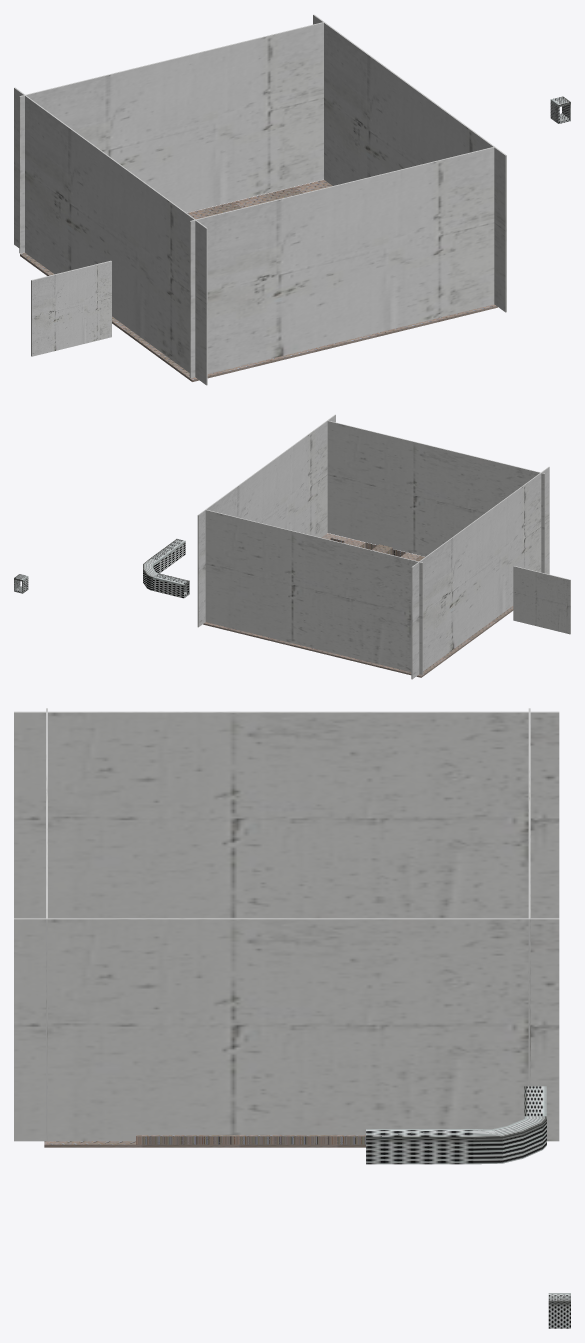
The model's file is Map_CommandCenter.glb.
3 views of the same model, one above another, from view 1: azimuth 30°, elevation 25°; view 2: azimuth 150°, elevation 25°; view 3: azimuth 270°, elevation 25° (orthographic). The views are drawn at different scales.
Parts seen in each view (by area): view 1: Wall-col-col.002-col, Wall-col-col.001-col, Wall-col-col.004-col, Wall-col-col.003-col, Wall-col-col-col, Cube-col, Gratey-col-col; view 2: Wall-col-col.001-col, Wall-col-col.002-col, Wall-col-col.004-col, Wall-col-col.003-col, Wall-col-col-col, Cube-col, Grate-col-col, Grate.001-col-col; view 3: Wall-col-col.003-col, Wall-col-col.004-col, Grate-col-col, Cube-col, Wall-col-col.001-col, Wall-col-col.002-col, Gratey-col-col.
Part boxes in pixels (left/top/right/bottom): Wall-col-col.002-col: left=189, top=146, right=494, bottom=378; Wall-col-col.001-col: left=19, top=22, right=324, bottom=253; Wall-col-col.004-col: left=14, top=87, right=207, bottom=385; Wall-col-col.003-col: left=313, top=14, right=506, bottom=312; Wall-col-col-col: left=31, top=260, right=111, bottom=356; Cube-col: left=20, top=180, right=497, bottom=381; Gratey-col-col: left=550, top=96, right=570, bottom=123; Wall-col-col.001-col: left=205, top=509, right=423, bottom=674; Wall-col-col.002-col: left=327, top=420, right=544, bottom=573; Wall-col-col.004-col: left=411, top=466, right=549, bottom=679; Wall-col-col.003-col: left=197, top=414, right=335, bottom=627; Wall-col-col-col: left=513, top=566, right=570, bottom=634; Cube-col: left=203, top=533, right=513, bottom=677; Grate-col-col: left=143, top=539, right=185, bottom=590; Grate.001-col-col: left=153, top=573, right=189, bottom=598; Wall-col-col.003-col: left=14, top=918, right=559, bottom=1141; Wall-col-col.004-col: left=14, top=711, right=559, bottom=918; Grate-col-col: left=366, top=1116, right=546, bottom=1164; Cube-col: left=44, top=1135, right=365, bottom=1147; Wall-col-col.001-col: left=528, top=708, right=530, bottom=1086; Wall-col-col.002-col: left=46, top=708, right=47, bottom=1141; Gratey-col-col: left=548, top=1293, right=570, bottom=1328.
Size of the model in its own units: 144 by 34.87 by 75.05.
3 materials, 3 textured.
